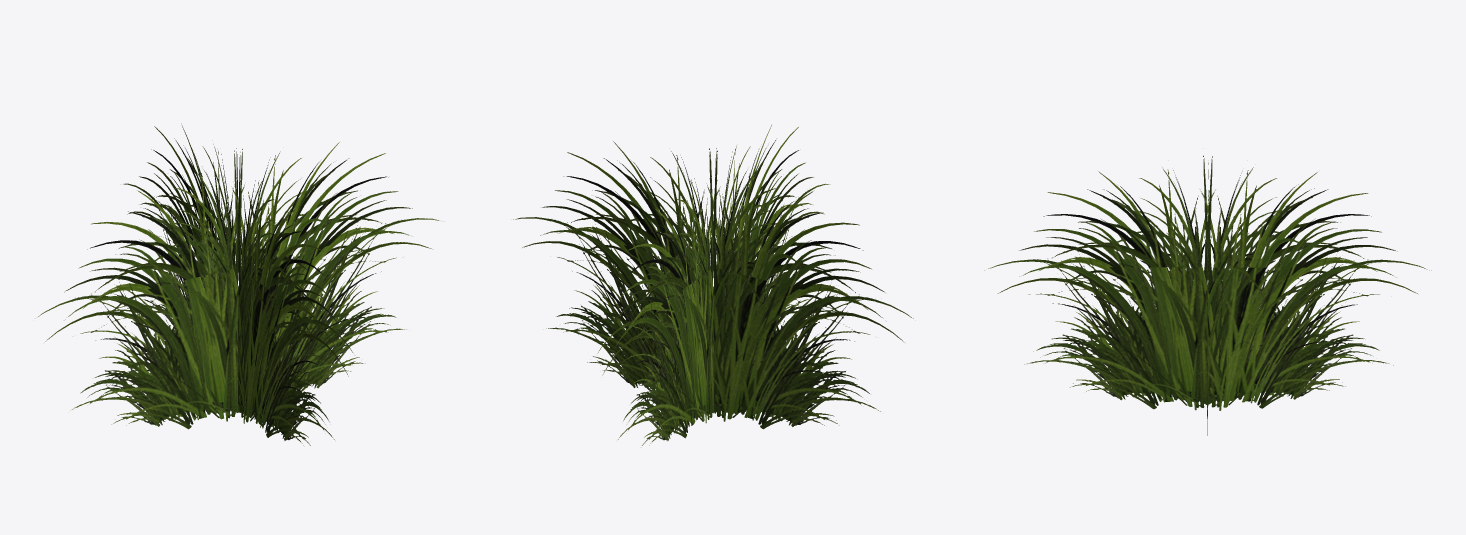
Rendered from grass 1.fbx.
The picture shows the model from 3 angles, left to right: view 1: azimuth 30°, elevation 25°; view 2: azimuth 150°, elevation 25°; view 3: azimuth 270°, elevation 25°; orthographic projection. The views are drawn at different scales.
Parts seen in each view (by area): view 1: grass1; view 2: grass1; view 3: grass1.
Boxes of the visible parts, x1,y1,x2,y2 form: grass1: (38, 123, 439, 445); grass1: (513, 125, 913, 445); grass1: (984, 155, 1431, 435).
Size of the model in its own units: 107 by 73.25 by 107.
Materials: 1 (1 with a texture image).
